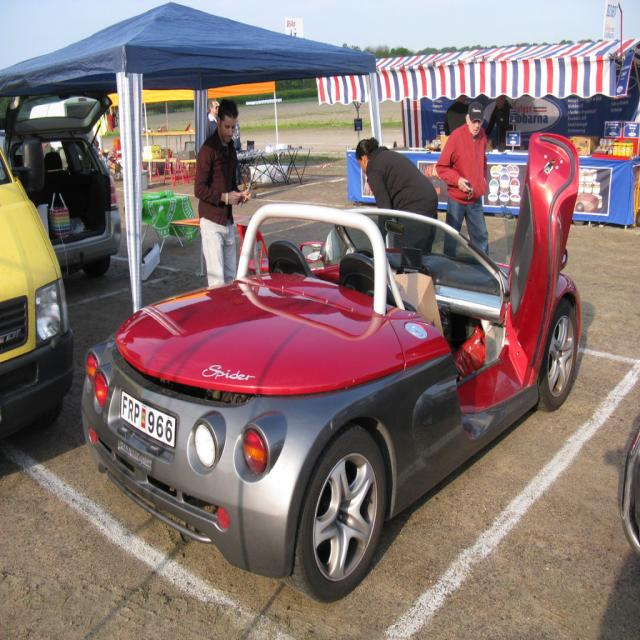car: (77, 126, 584, 606)
